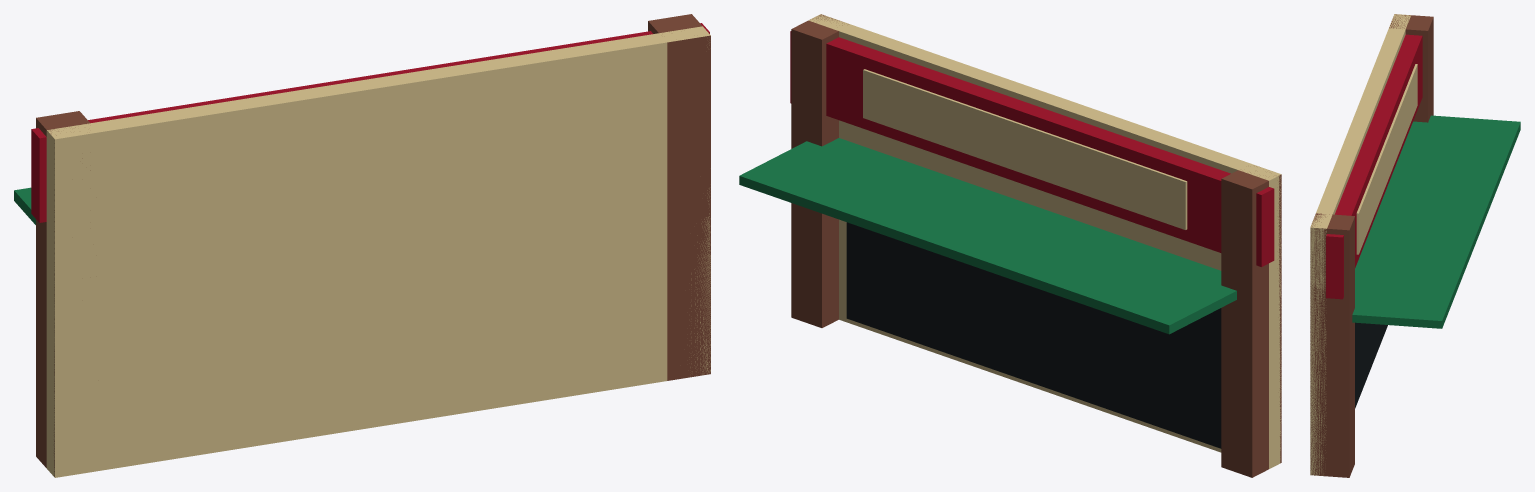
File: ph_piedraplat.glb
The picture shows the model from 3 angles, left to right: view 1: azimuth 30°, elevation 25°; view 2: azimuth 150°, elevation 25°; view 3: azimuth 270°, elevation 25°; orthographic projection. The views are drawn at different scales.
Parts seen in each view (by area): view 1: ph_piedraplat_lod0; view 2: ph_piedraplat_lod0; view 3: ph_piedraplat_lod0.
Boxes of the visible parts, x1,y1,x2,y2 form: ph_piedraplat_lod0: (14, 14, 710, 477); ph_piedraplat_lod0: (739, 14, 1281, 477); ph_piedraplat_lod0: (1310, 14, 1520, 477).
Size of what is drawn, in the model's own units: 9.12 by 4.8 by 3.7.
